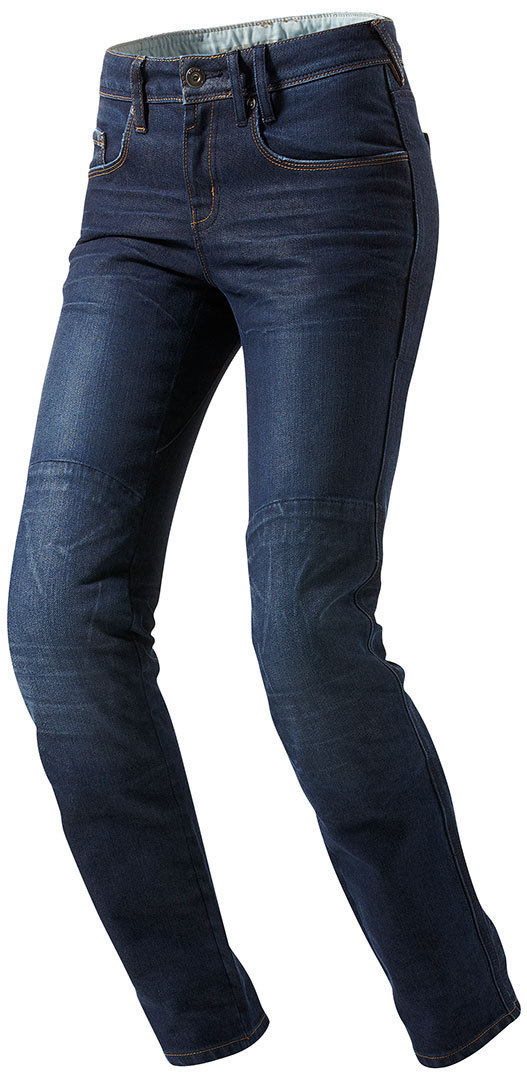jeans: (6, 16, 519, 1075)
